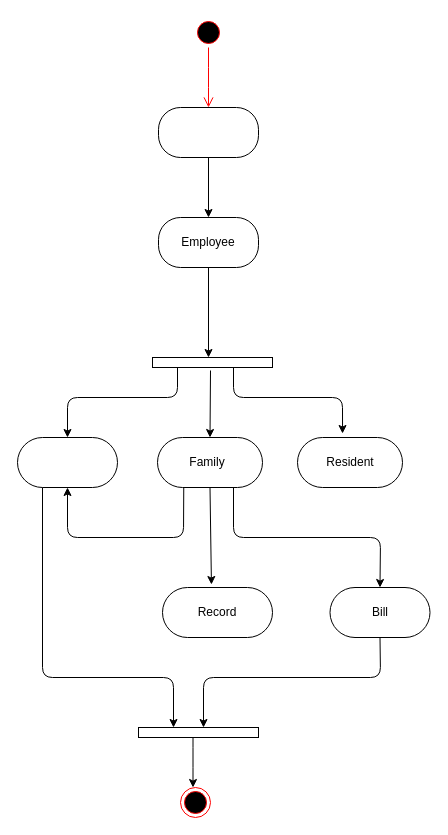
Image size: 448x835. Some labels were removed from this diagram. Here are the shapes that lost their labels. From the top down, the centre of each, then its label:
(208,132): Portal
(67,462): Compliant
